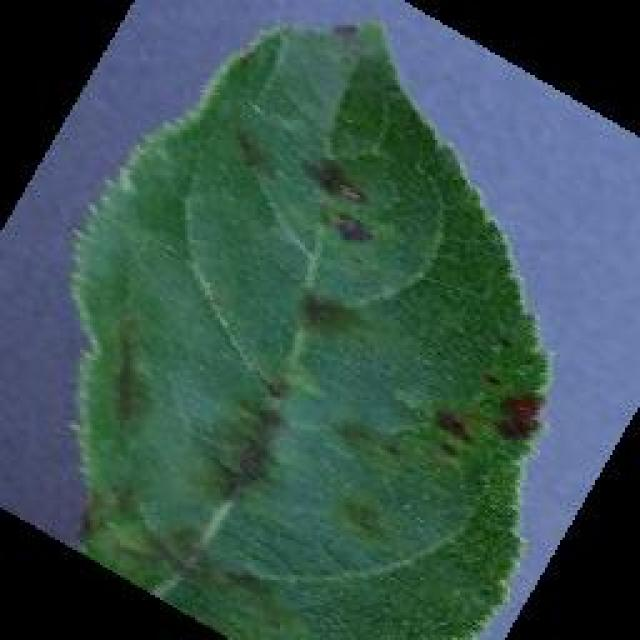apple scab disease: (65, 15, 553, 637)
